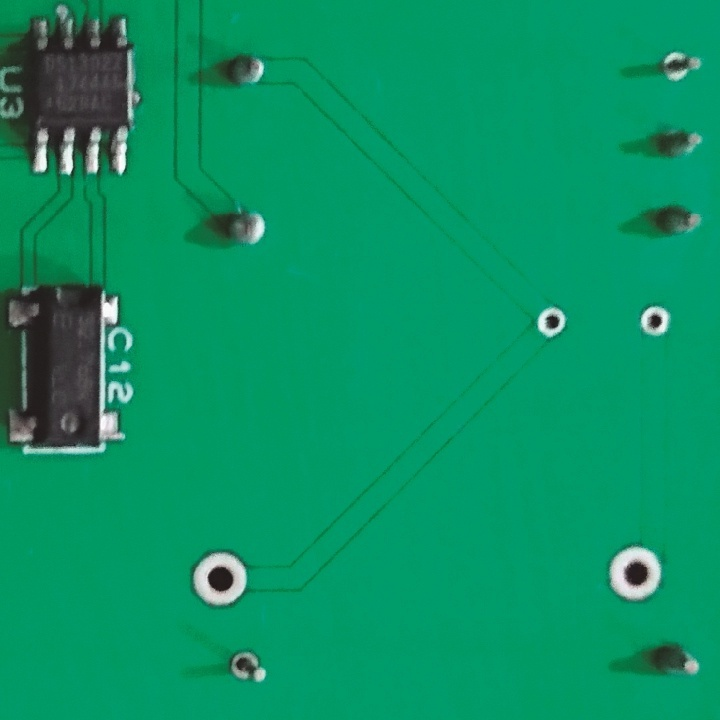F: (189, 545, 257, 609), (608, 540, 666, 603), (657, 50, 706, 87), (226, 651, 269, 687), (536, 302, 567, 343), (638, 305, 672, 338)
